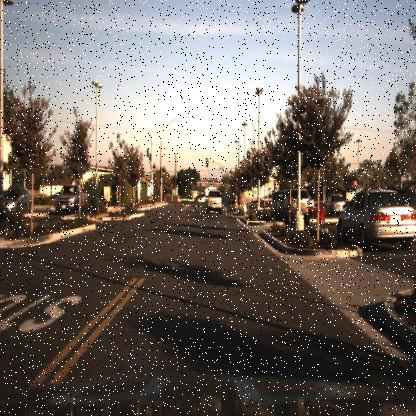car: (335, 184, 416, 250), (276, 189, 315, 229), (52, 179, 87, 211), (4, 184, 34, 217), (323, 191, 347, 218), (204, 194, 224, 218)
trafficLight-Red: (204, 156, 209, 168), (170, 173, 175, 184)
